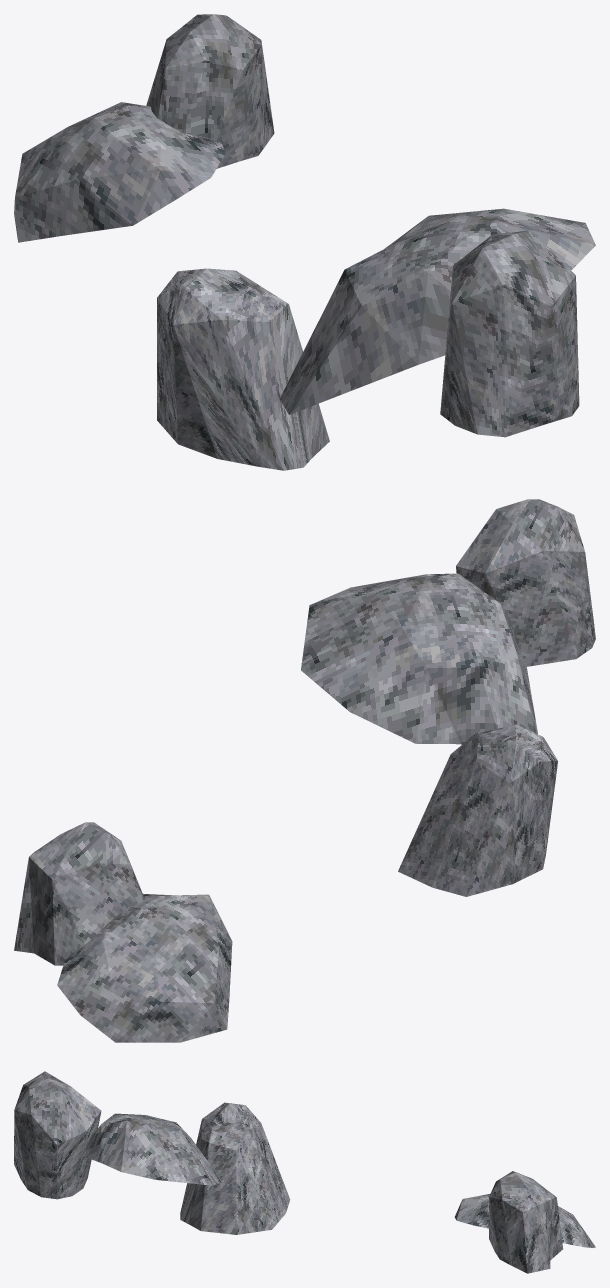
The model's file is lod_cn2_rockgpst.obj.
The picture shows the model from 3 angles, top to bottom: view 1: azimuth 30°, elevation 25°; view 2: azimuth 150°, elevation 25°; view 3: azimuth 270°, elevation 25°; orthographic projection. The views are drawn at different scales.
Parts seen in each view (by area): view 1: lod_cn2_rockgpst; view 2: lod_cn2_rockgpst; view 3: lod_cn2_rockgpst.
Part boxes in pixels (x1,y1,x2,y2): lod_cn2_rockgpst: [14, 14, 595, 470]; lod_cn2_rockgpst: [14, 499, 595, 1042]; lod_cn2_rockgpst: [14, 1071, 595, 1273].
Bounding box in the file's own units: 21.25 × 16.52 × 50.79.
Materials: 2 (2 with a texture image).
